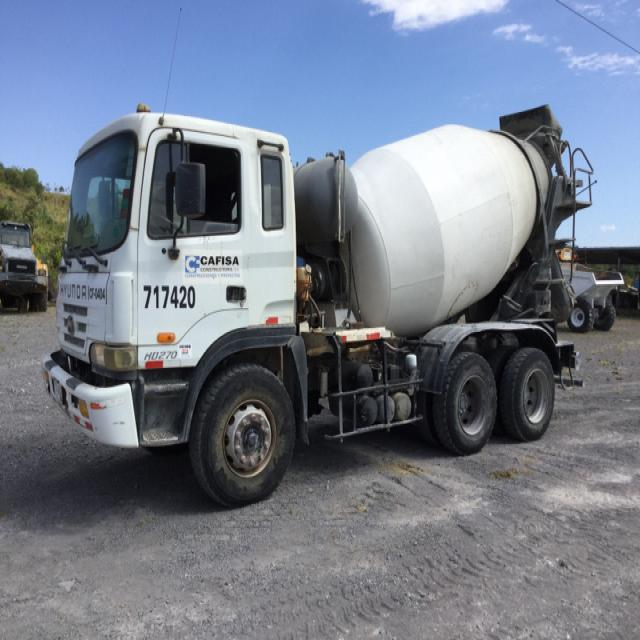Mixer Truck: (41, 103, 594, 506)
